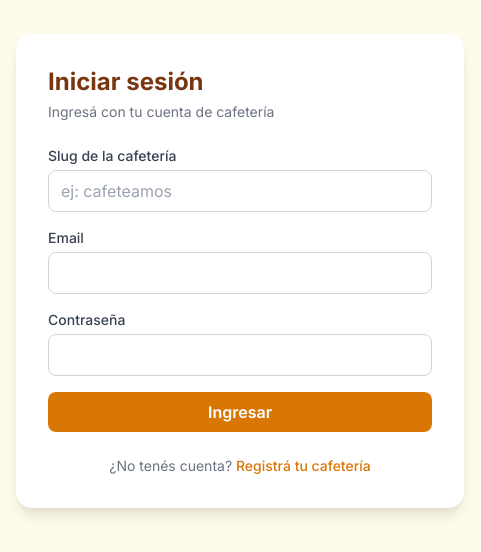
LoginPage › muestra el mensaje de error si las credenciales son inválidas
Type "cafeteamos" into the field labelled "Slug de la cafetería".
click(240, 191); type("cafeteamos")  # box [48, 170, 432, 212]
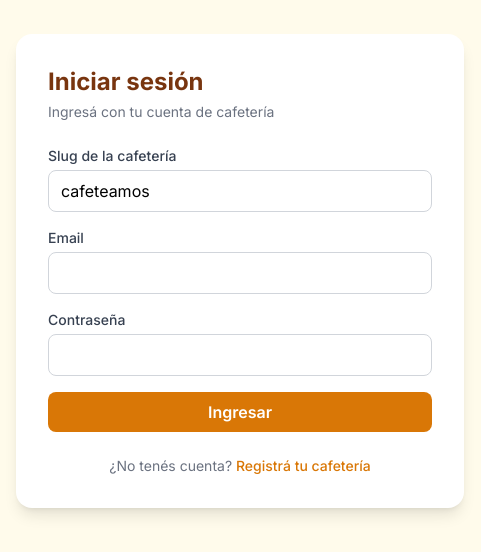
Type "walter@x.com" into the field labelled "Email".
click(240, 273); type("walter@x.com")  # box [48, 252, 432, 294]
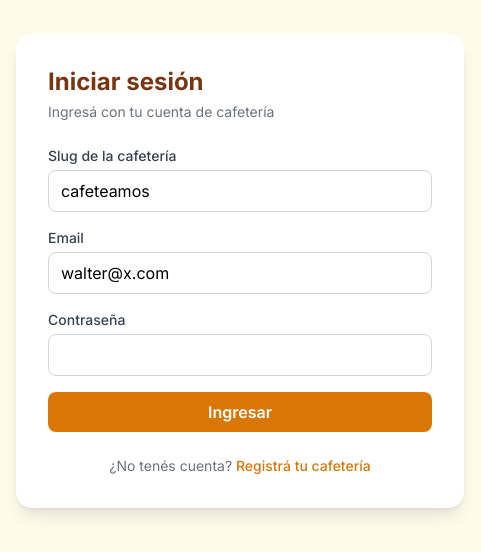
Type "mala" into the password field labelled "Contraseña".
click(240, 355); type("mala")  # box [48, 334, 432, 376]
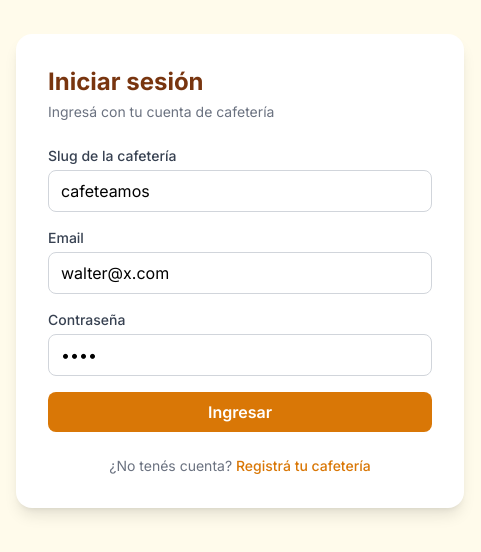
Click the button "Ingresar".
click(240, 412)  # box [48, 392, 432, 432]
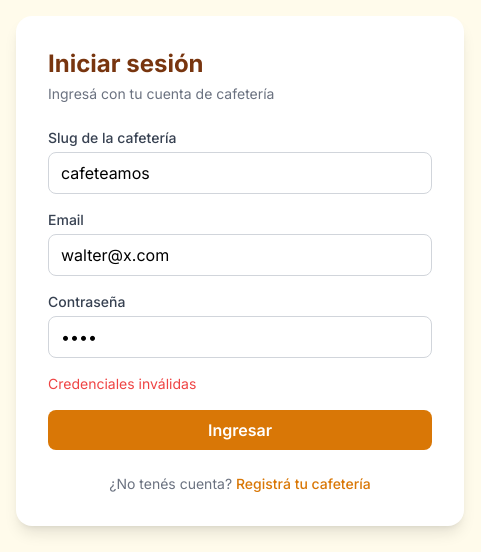
Result: the text "Credenciales inválidas" is shown at [48, 375, 196, 392]
